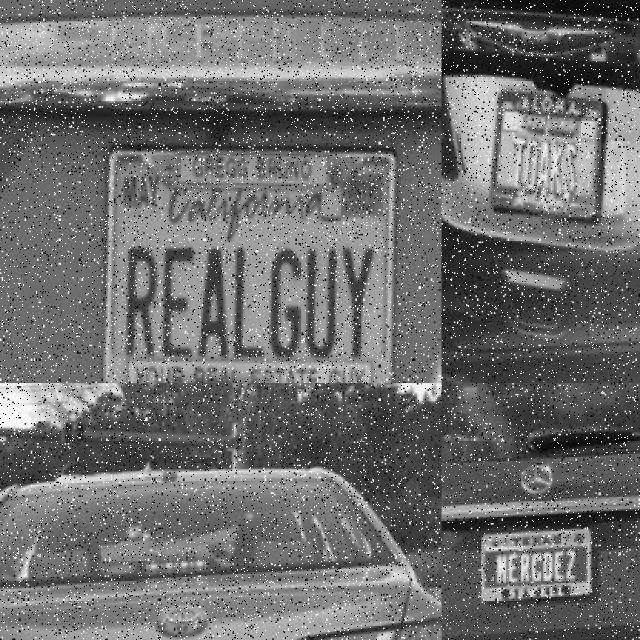LicensePlate: (91, 123, 430, 383), (490, 73, 613, 221), (485, 524, 597, 599)
